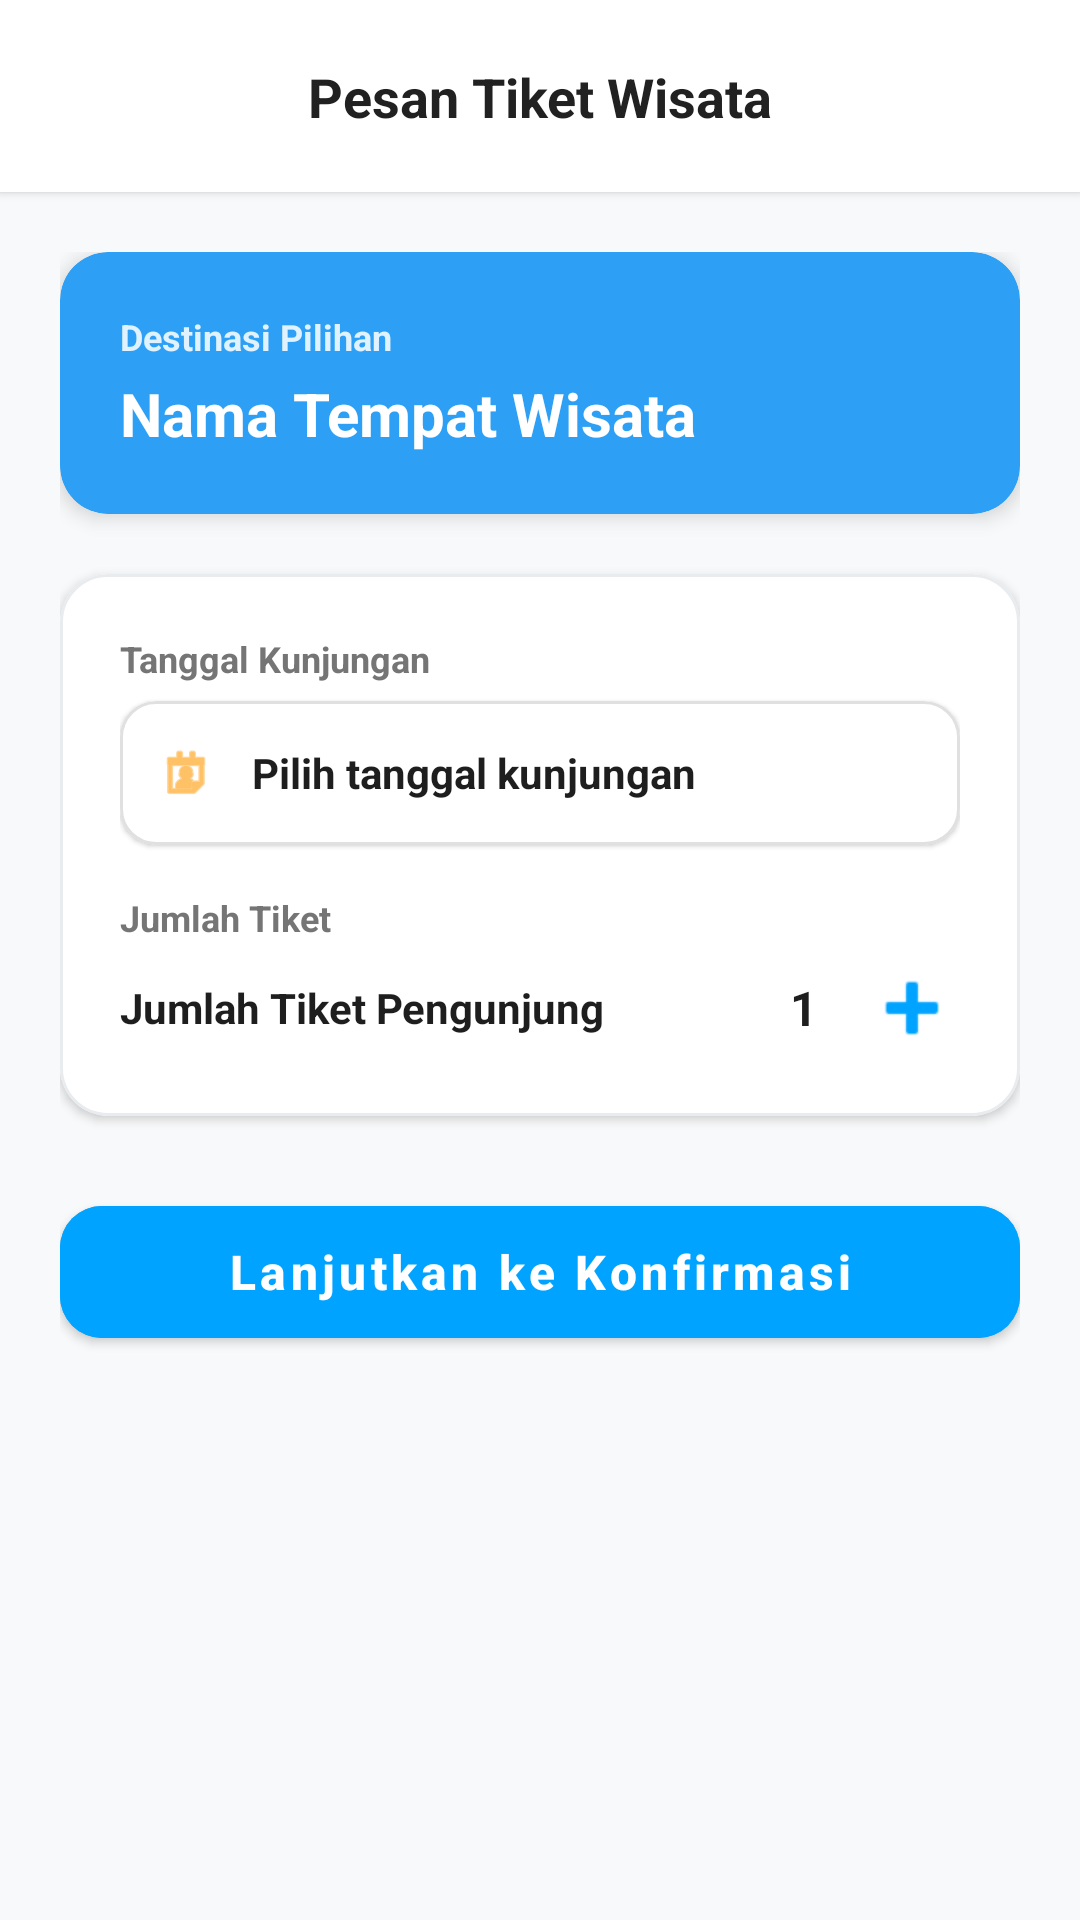

Where to tap for icons on this 1080 x 1920 app screen, as (x=x, y=y):
calendar: (x=186, y=772)
Tambah: (x=912, y=1008)
